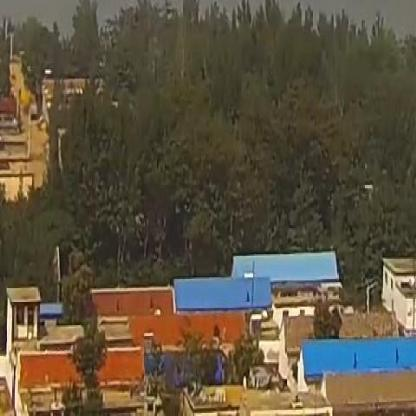other: (16, 284, 240, 388)
